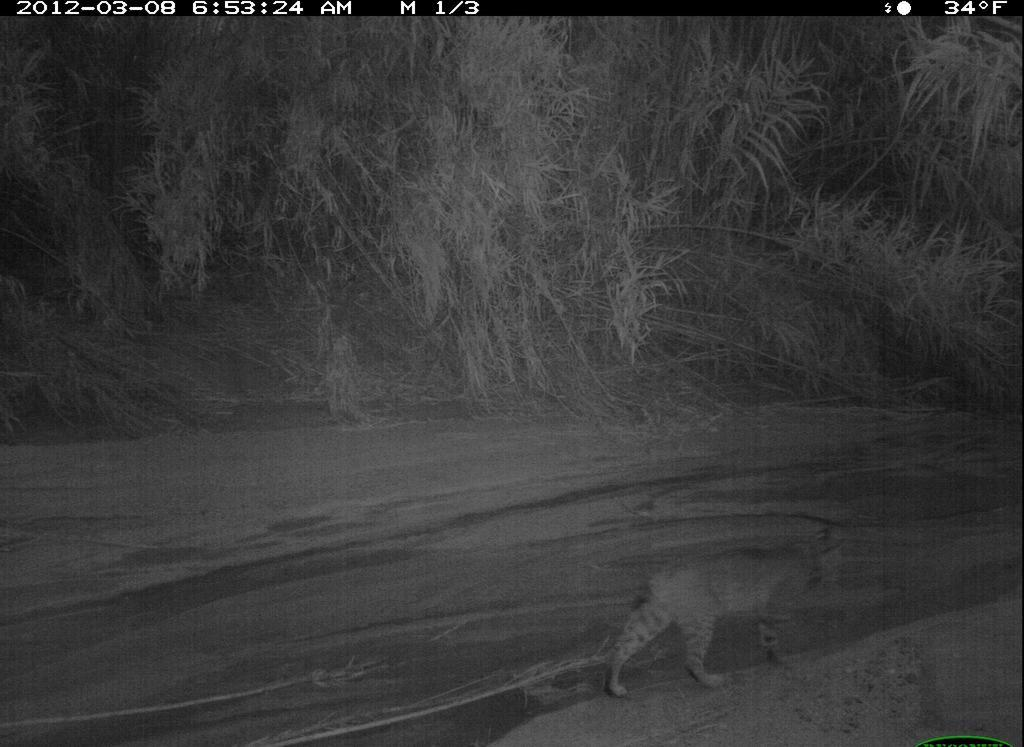bobcat: (593, 529, 856, 699)
